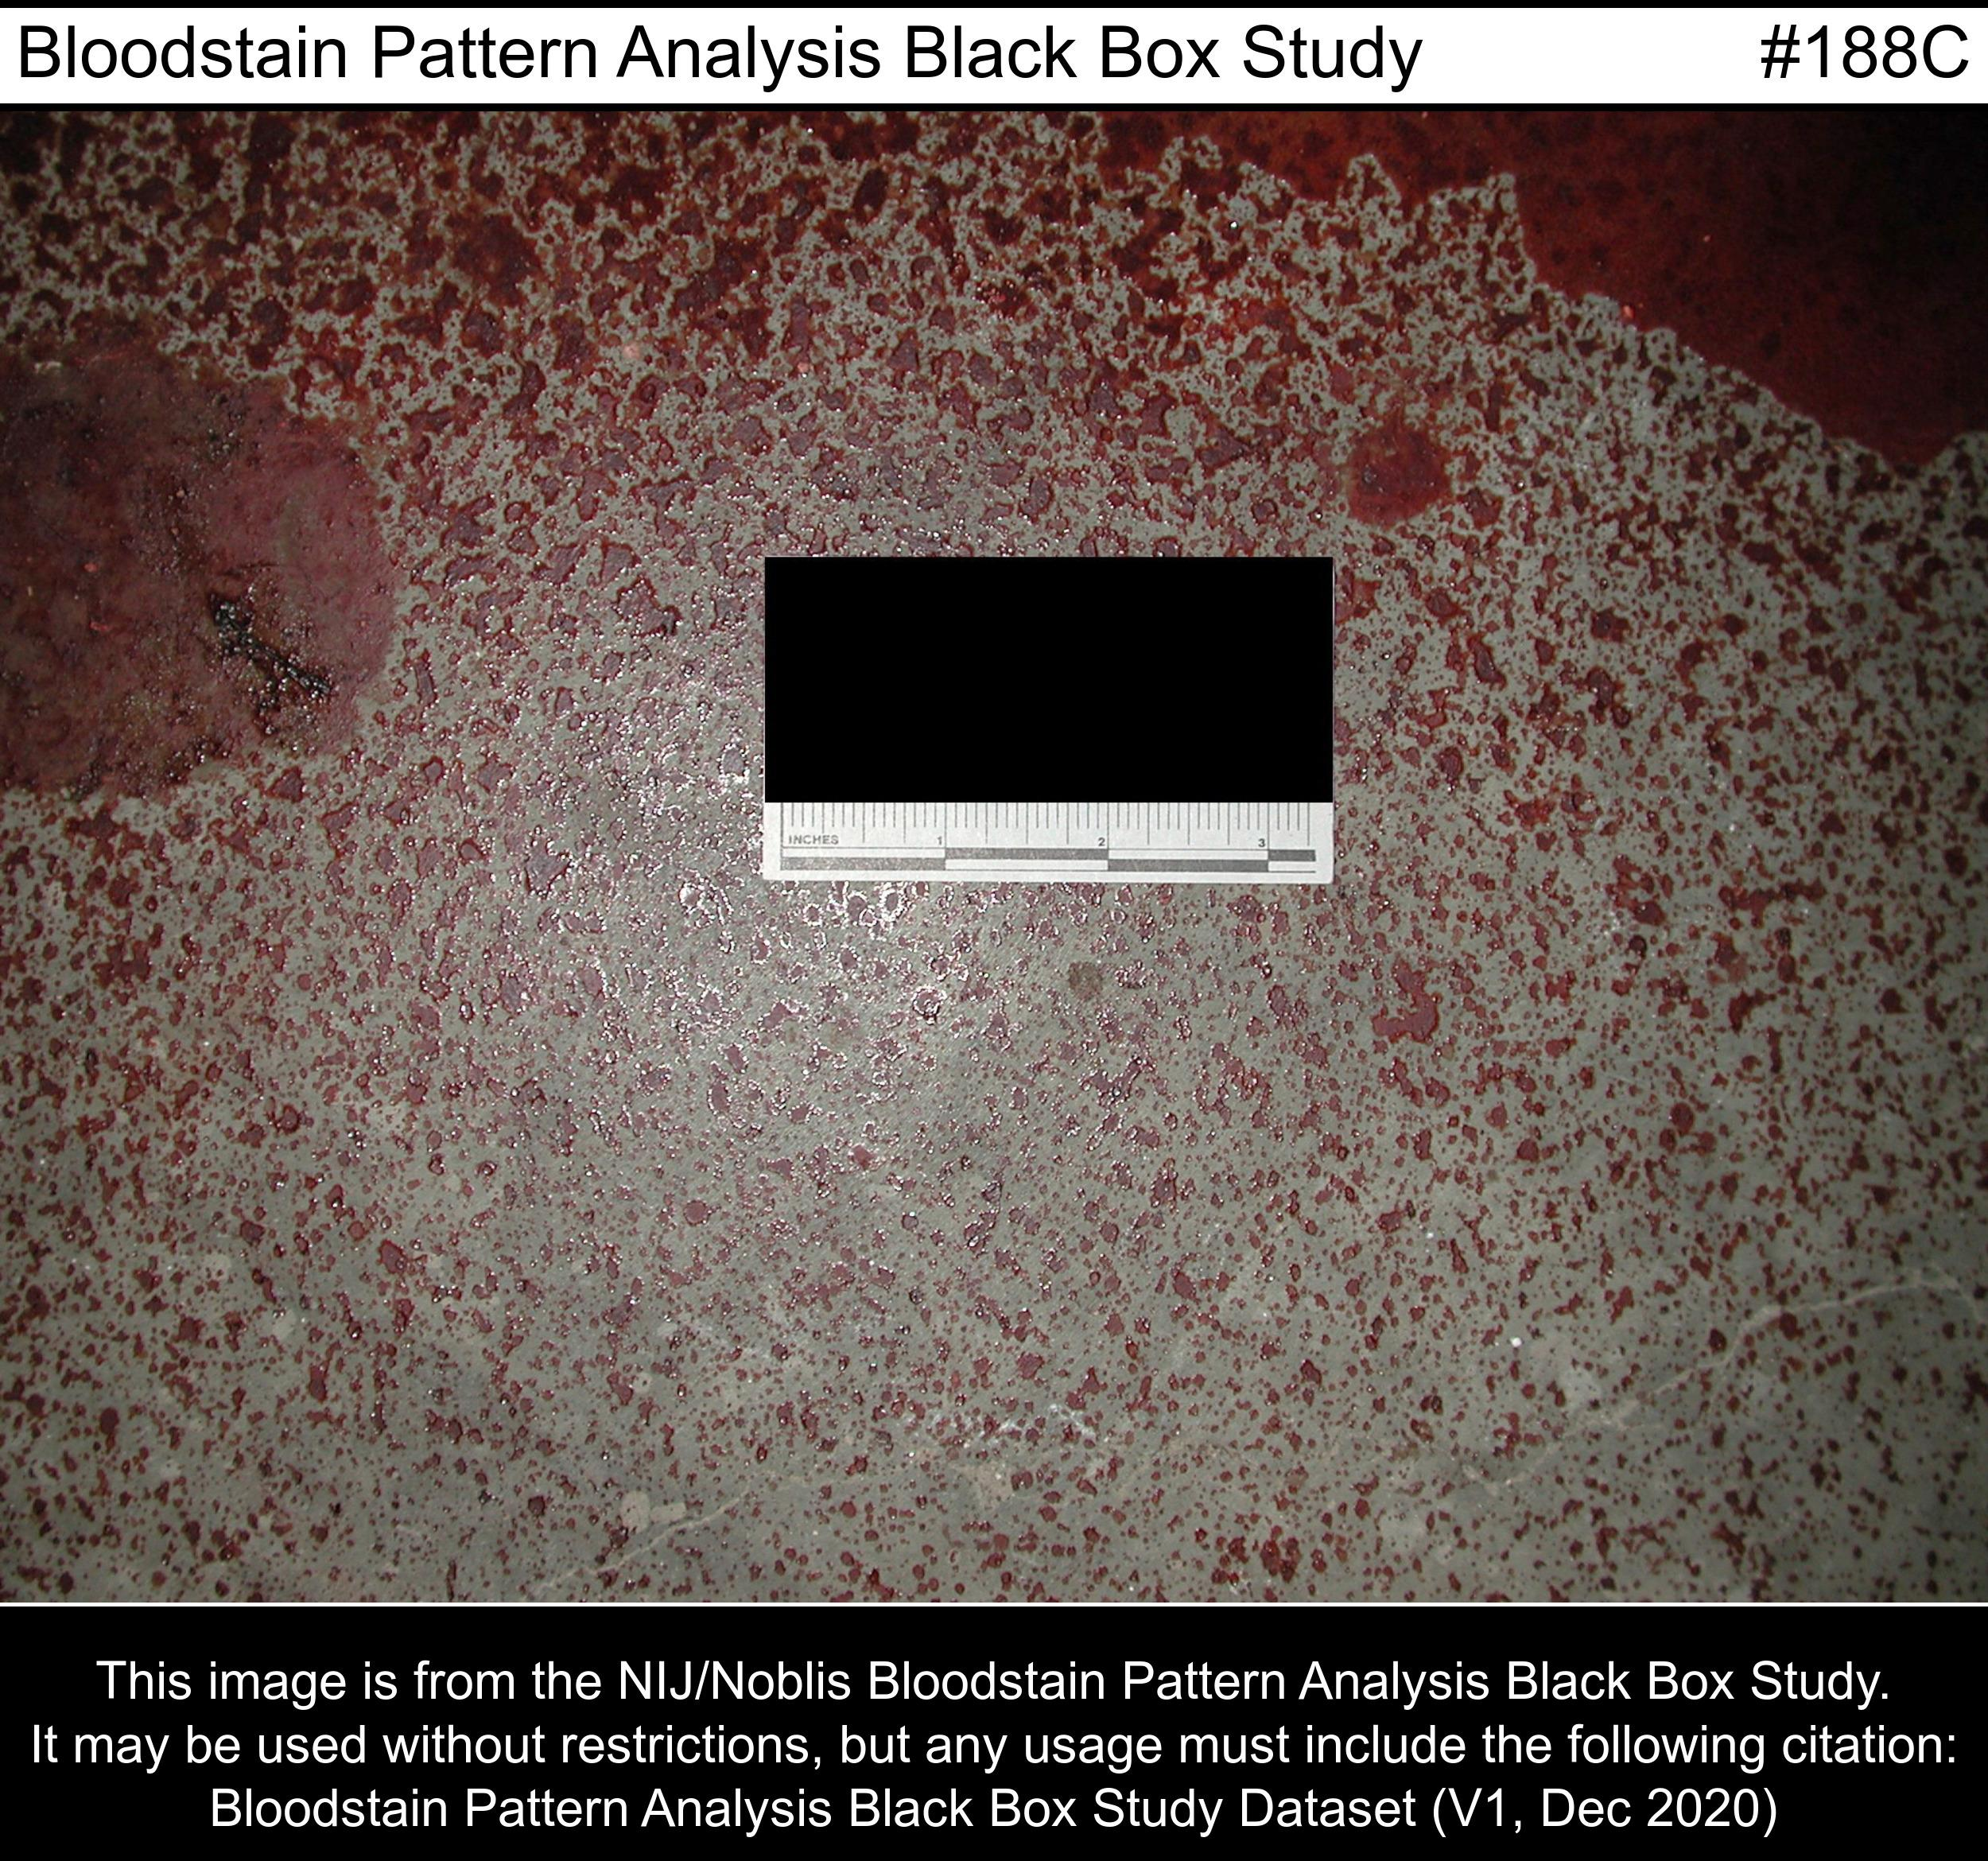Impact: (16, 121, 1988, 1139)
